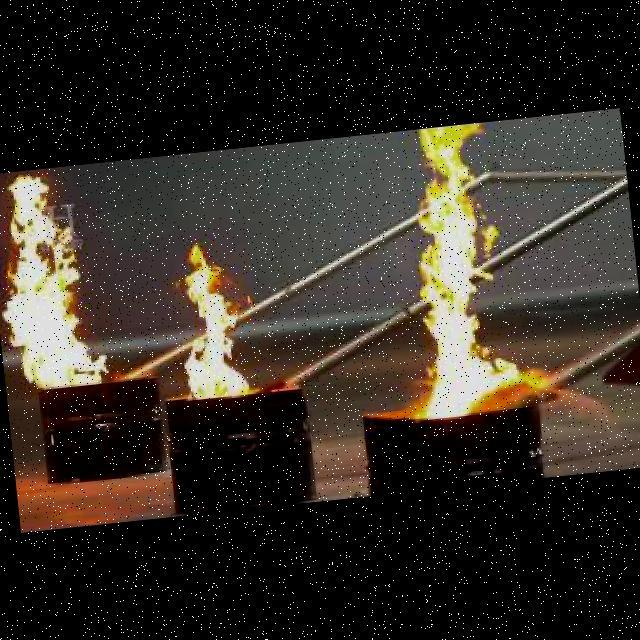Fire: (394, 125, 542, 414), (0, 169, 115, 394), (170, 240, 260, 405)
